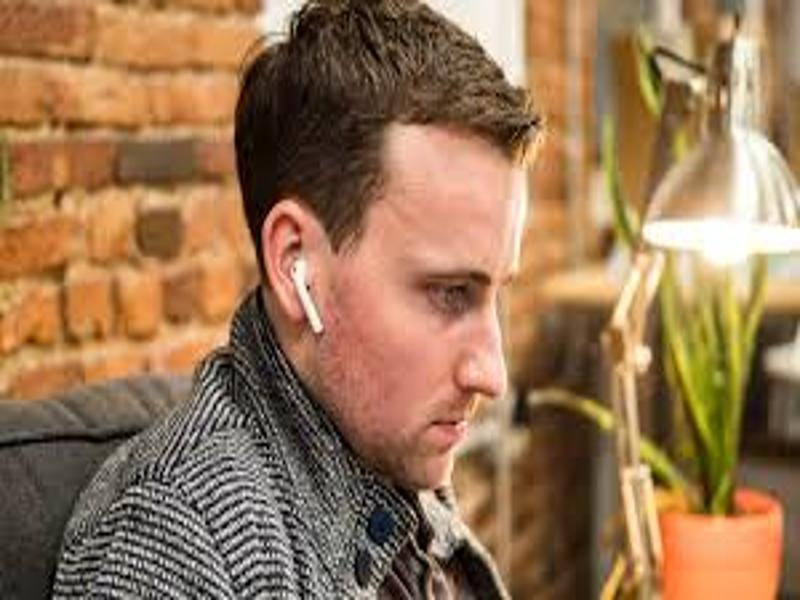headphone: (291, 257, 326, 334)
